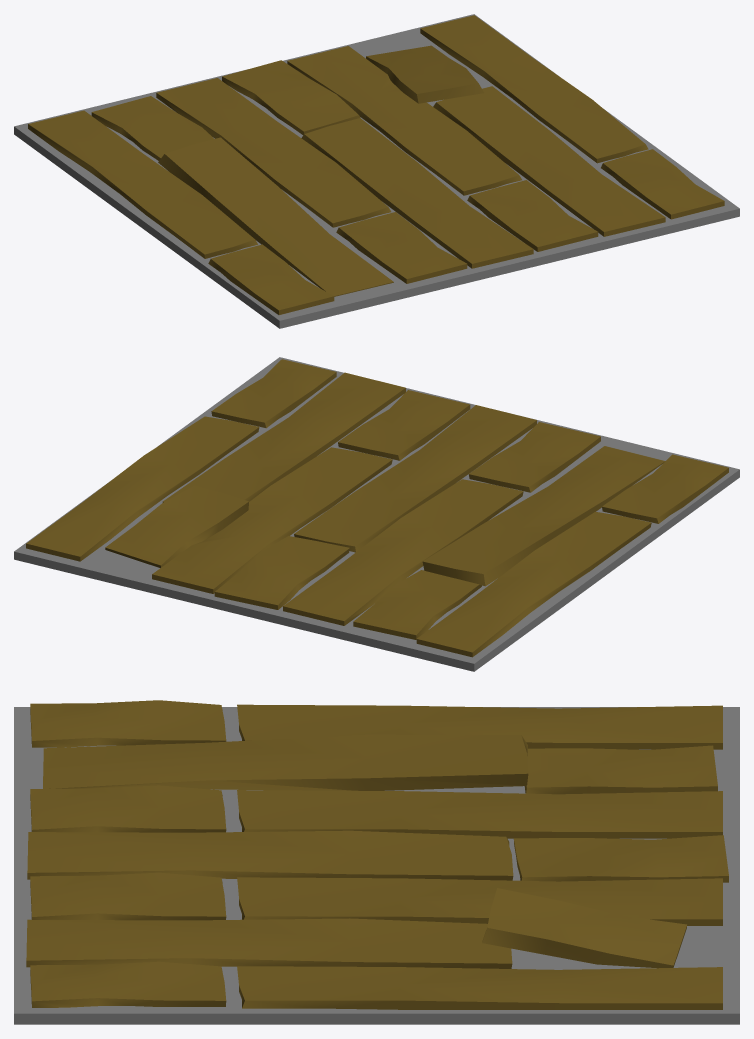
The model's file is floor_wood_small.fbx.
3 views of the same model, one above another, from view 1: azimuth 30°, elevation 25°; view 2: azimuth 150°, elevation 25°; view 3: azimuth 270°, elevation 25° (orthographic). The views are drawn at different scales.
Visible parts, largest first — view 1: pref_floor_small; view 2: pref_floor_small; view 3: pref_floor_small.
Boxes of the visible parts, x1,y1,x2,y2 form: pref_floor_small: (14, 14, 739, 328); pref_floor_small: (14, 357, 739, 671); pref_floor_small: (14, 700, 739, 1024).
Bounding box in the file's own units: 300 × 18.44 × 300.
